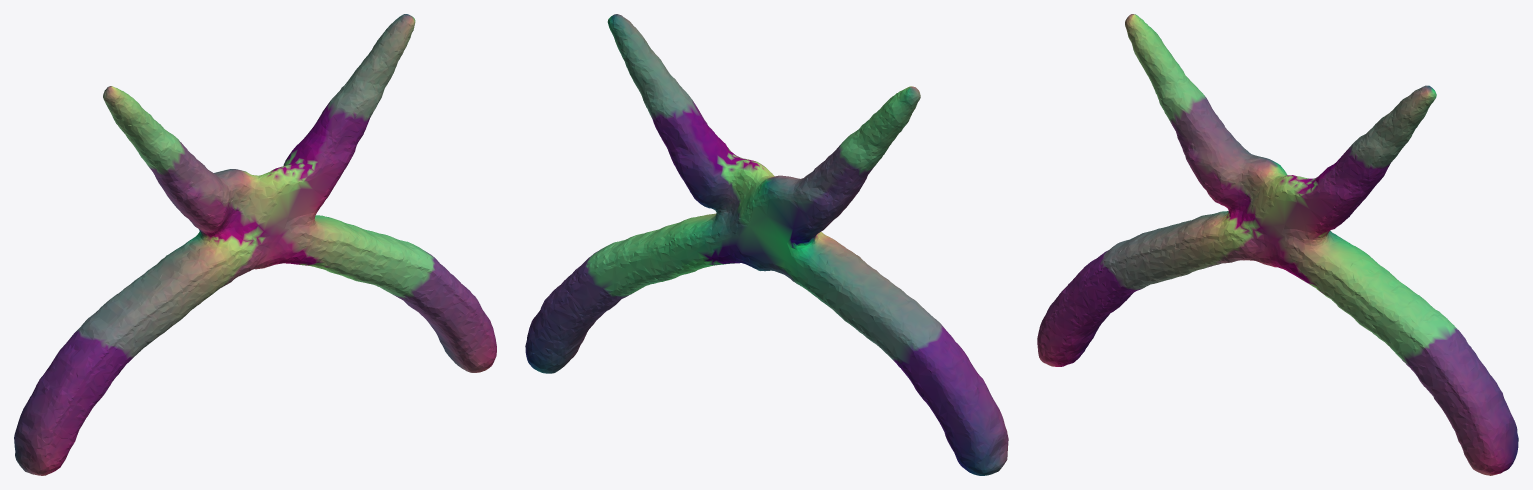
Rendered from pliers-13.off.obj.
3 renders of one model, left to right at view 1: azimuth 30°, elevation 25°; view 2: azimuth 150°, elevation 25°; view 3: azimuth 330°, elevation 25°, orthographic.
Bounding box in the file's own units: 1.53 × 1.16 × 0.1717.
